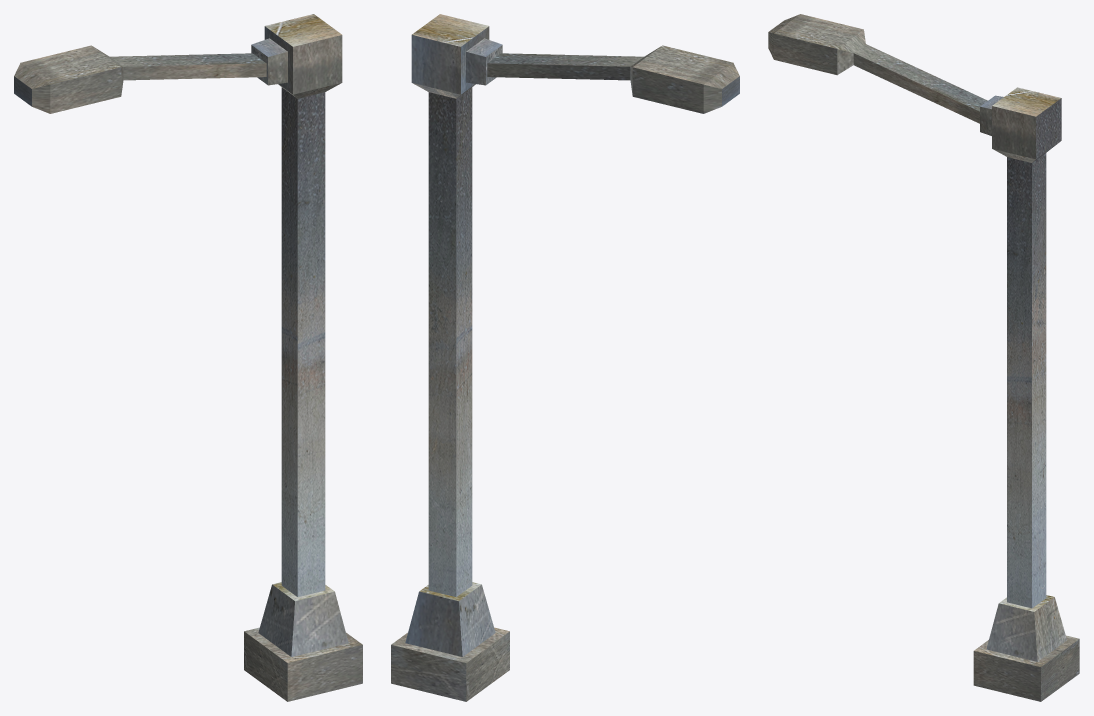
File: faro.obj
The picture shows the model from 3 angles, left to right: view 1: azimuth 30°, elevation 25°; view 2: azimuth 150°, elevation 25°; view 3: azimuth 330°, elevation 25°; orthographic projection. The views are drawn at different scales.
Parts seen in each view (by area): view 1: Cube; view 2: Cube; view 3: Cube.
Boxes of the visible parts, left/top/right/bottom form: Cube: left=14, top=14, right=362, bottom=701; Cube: left=391, top=14, right=739, bottom=701; Cube: left=768, top=14, right=1079, bottom=701.
Bounding box in the file's own units: 8.45 × 16.97 × 2.
